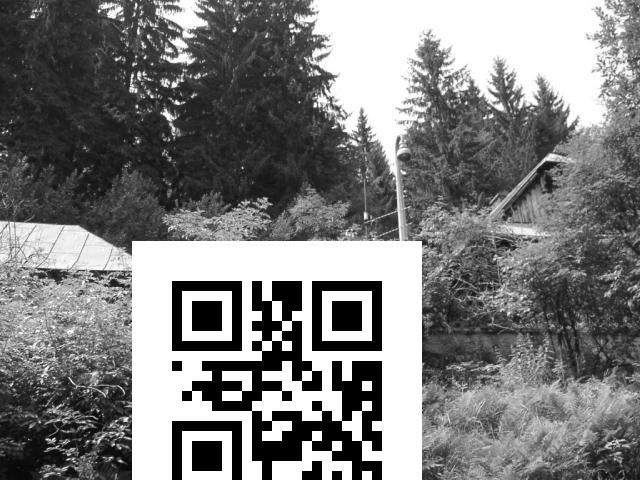qr_code: (167, 272, 388, 480)
